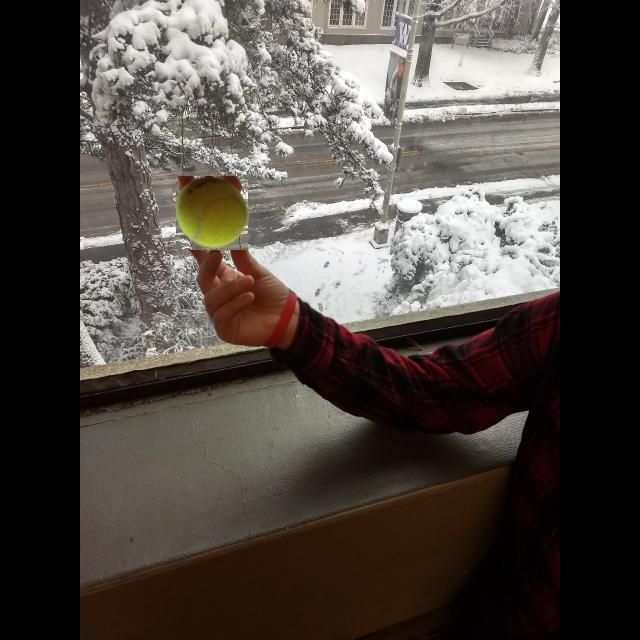tennis ball: (176, 176, 248, 250)
